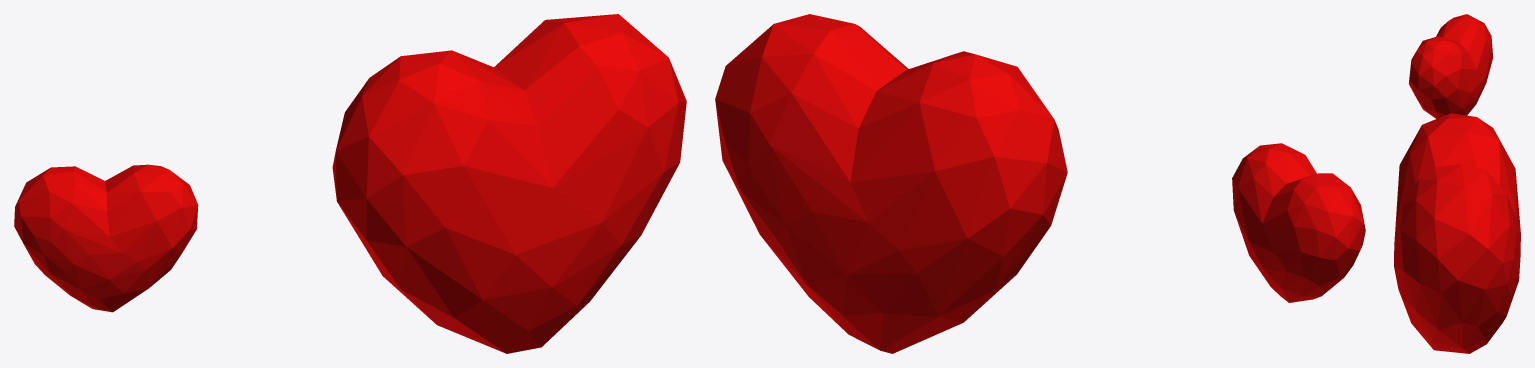
File: uyhhh.fbx
The picture shows the model from 3 angles, left to right: view 1: azimuth 30°, elevation 25°; view 2: azimuth 150°, elevation 25°; view 3: azimuth 270°, elevation 25°; orthographic projection. The views are drawn at different scales.
Visible parts, largest first — view 1: heart, smallheart1; view 2: heart, smallheart1; view 3: heart, smallheart1.
Boxes of the visible parts, <box> form: heart: <box>332,14,686,353</box>; smallheart1: <box>14,164,198,312</box>; heart: <box>715,14,1067,353</box>; smallheart1: <box>1232,143,1365,302</box>; heart: <box>1394,113,1520,353</box>; smallheart1: <box>1408,14,1492,118</box>.
Bounding box in the file's own units: 30.73 × 13.87 × 7.73.
